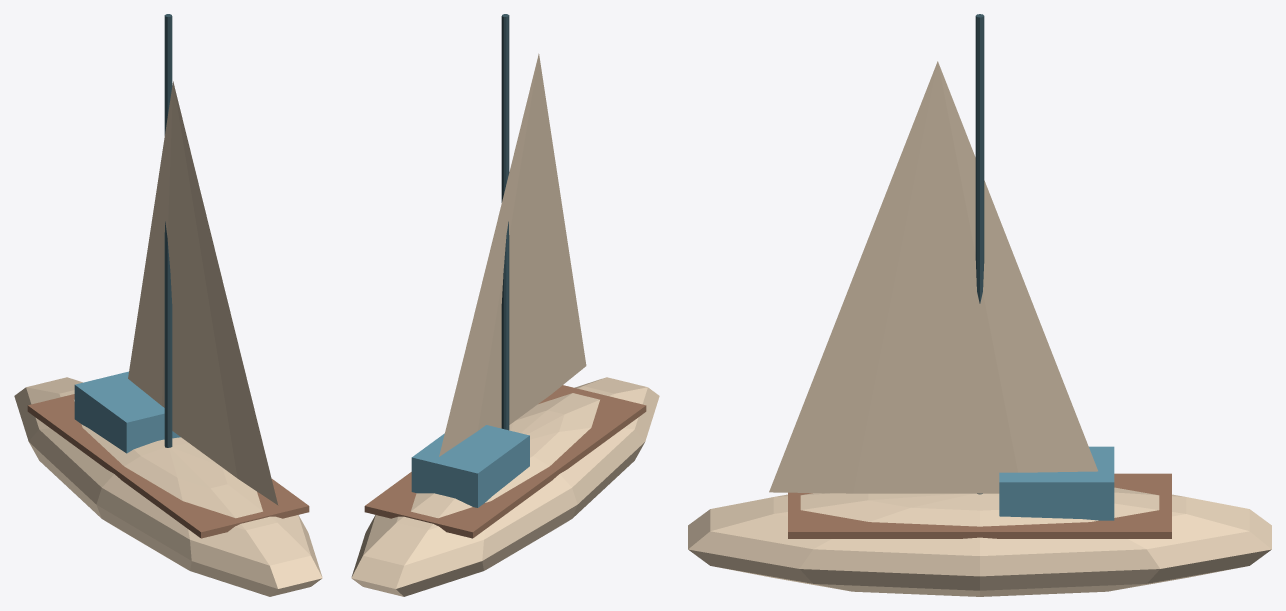
The model's file is sailboat.obj.
The picture shows the model from 3 angles, left to right: view 1: azimuth 30°, elevation 25°; view 2: azimuth 150°, elevation 25°; view 3: azimuth 270°, elevation 25°; orthographic projection. The views are drawn at different scales.
Visible parts, largest first — view 1: sailboat; view 2: sailboat; view 3: sailboat.
Part boxes in pixels (x1=…): sailboat: x1=14, y1=14, x2=322, y2=596; sailboat: x1=351, y1=14, x2=659, y2=596; sailboat: x1=688, y1=14, x2=1271, y2=596.
Size of the model in its own units: 2.4 by 8.15 by 7.61.
